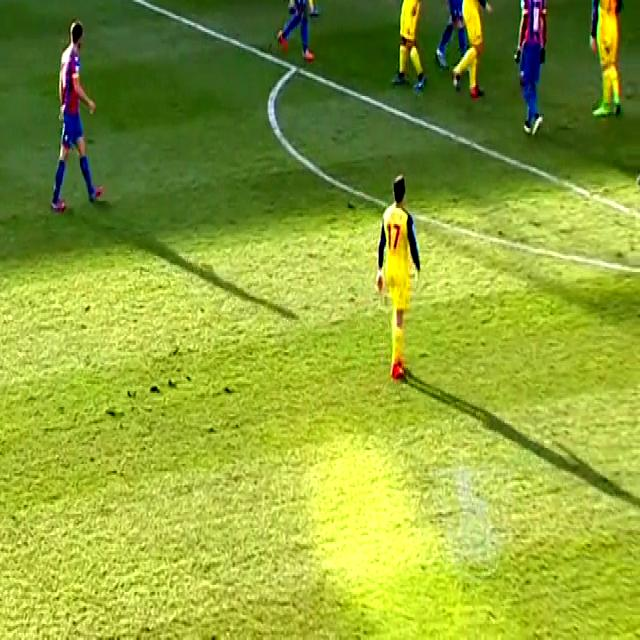soccer-player: (38, 9, 114, 217), (374, 170, 428, 382), (499, 0, 563, 140), (578, 0, 639, 123), (374, 0, 431, 94), (450, 0, 496, 101), (269, 0, 325, 69)
